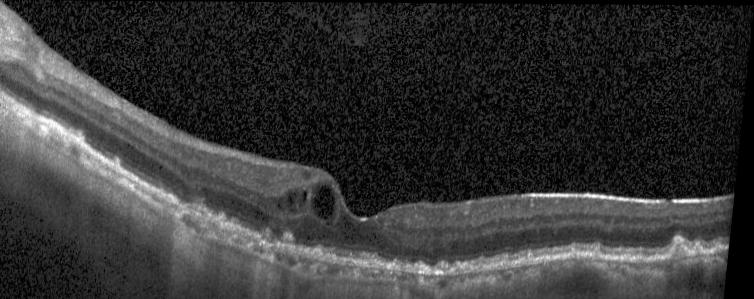intraretinal_cyst: (317, 183, 340, 220), (291, 194, 298, 204), (307, 189, 311, 201)
retinal_drusen: (677, 243, 694, 258), (598, 244, 607, 259), (506, 254, 515, 269), (576, 247, 585, 258), (531, 252, 539, 264), (698, 246, 708, 255)
subretinal_hyperreflective_material: (183, 202, 474, 273)
